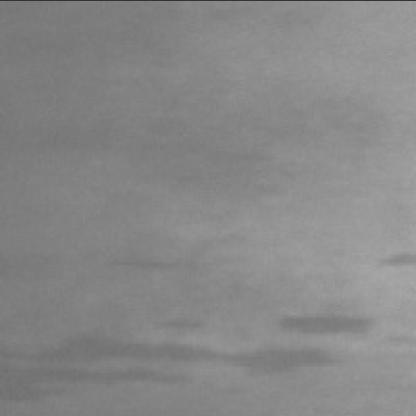inclusion: (0, 330, 345, 393), (264, 297, 387, 339), (106, 247, 181, 274)
